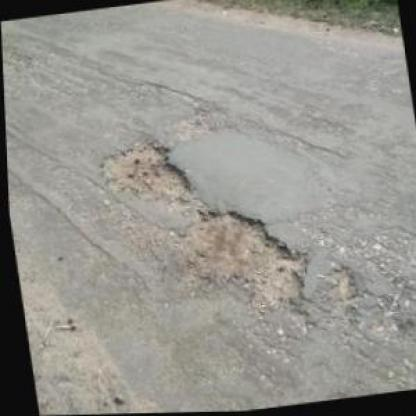pothole: (164, 198, 309, 318), (89, 132, 197, 214), (320, 268, 358, 306)
